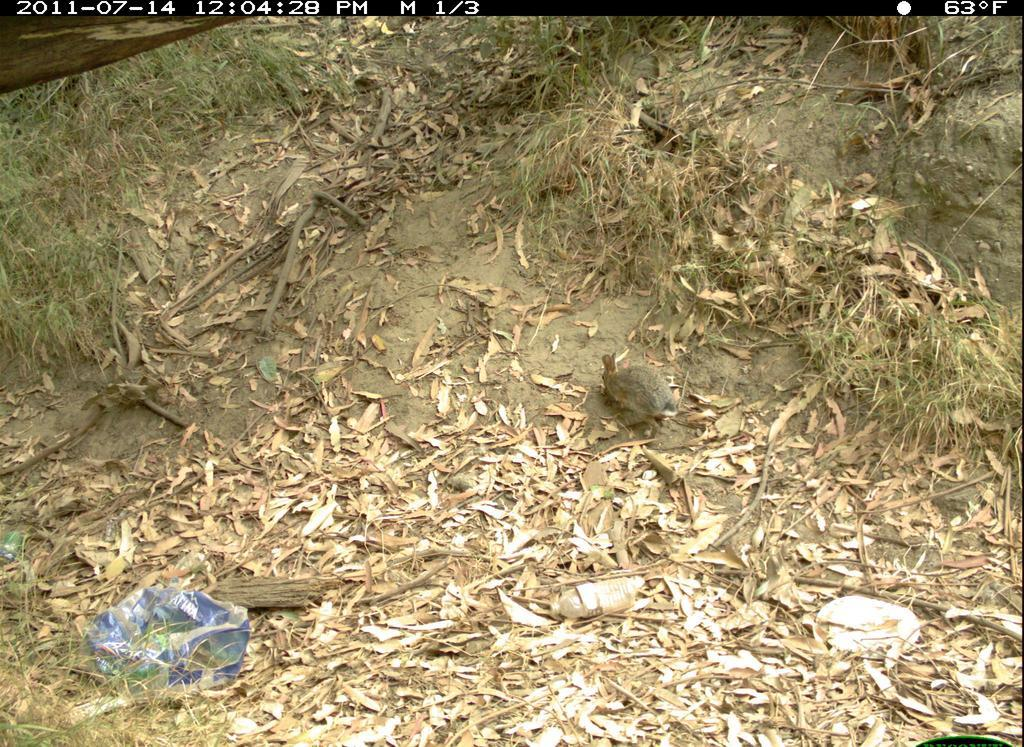rabbit: (600, 353, 681, 432)
